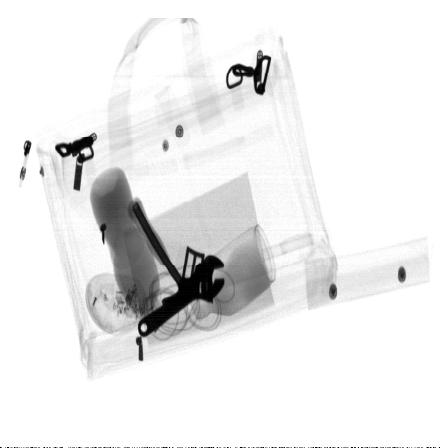Hammer: (127, 195, 206, 307)
Wrench: (137, 255, 226, 339)
